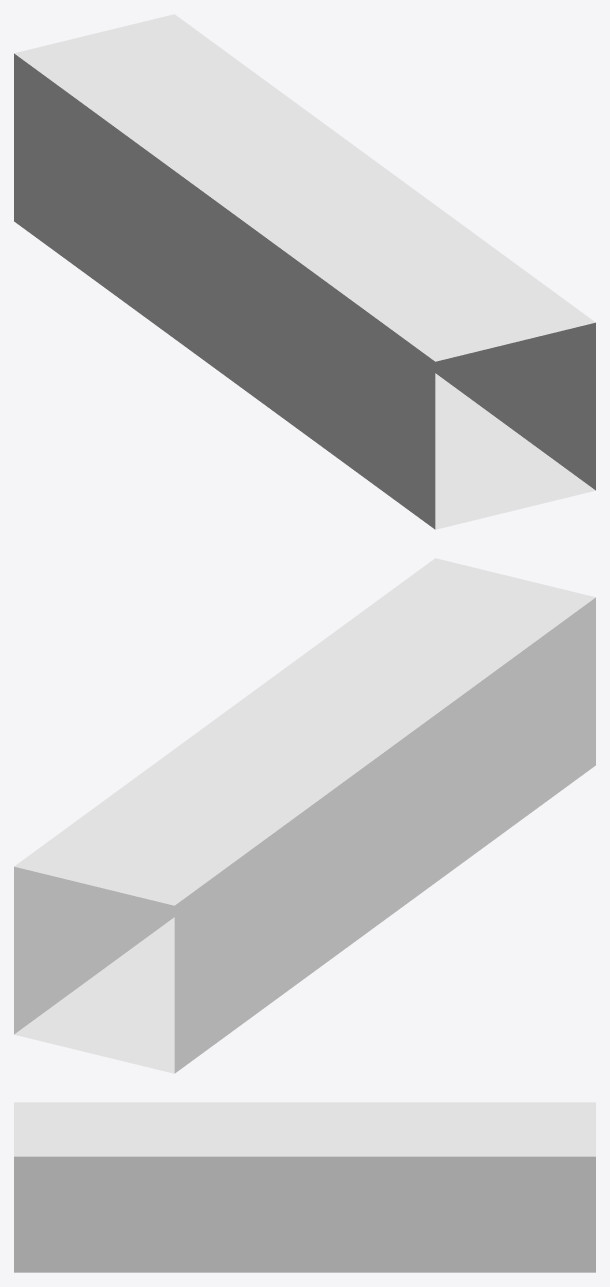
File: starBridge_Inside.fbx
3 renders of one model, top to bottom at view 1: azimuth 30°, elevation 25°; view 2: azimuth 150°, elevation 25°; view 3: azimuth 270°, elevation 25°, orthographic. The views are drawn at different scales.
Parts seen in each view (by area): view 1: starLine2; view 2: starLine2; view 3: starLine2.
Part boxes in pixels (<box>): starLine2: <box>14,14,595,529</box>; starLine2: <box>14,558,595,1073</box>; starLine2: <box>14,1102,595,1272</box>.
Size of the model in its own units: 220 by 220 by 1000.
